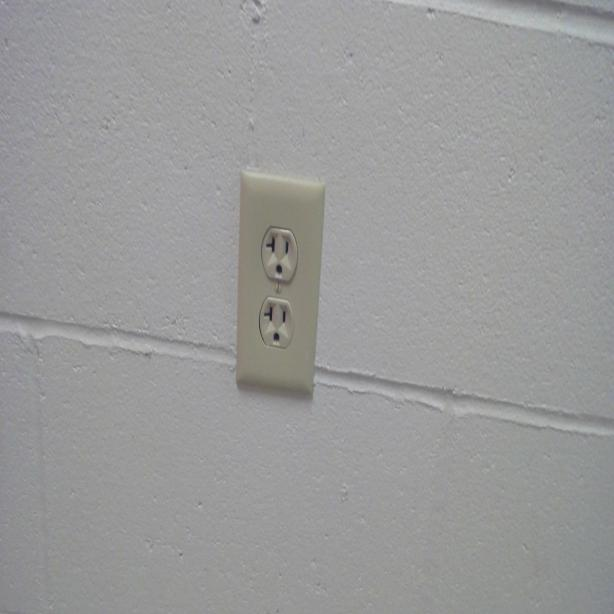typeb: (261, 222, 294, 282), (263, 304, 291, 360)
